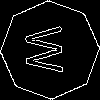W: (25, 25, 73, 74)
